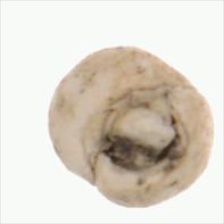L3: (93, 86, 185, 172)
L4: (47, 44, 215, 208)
